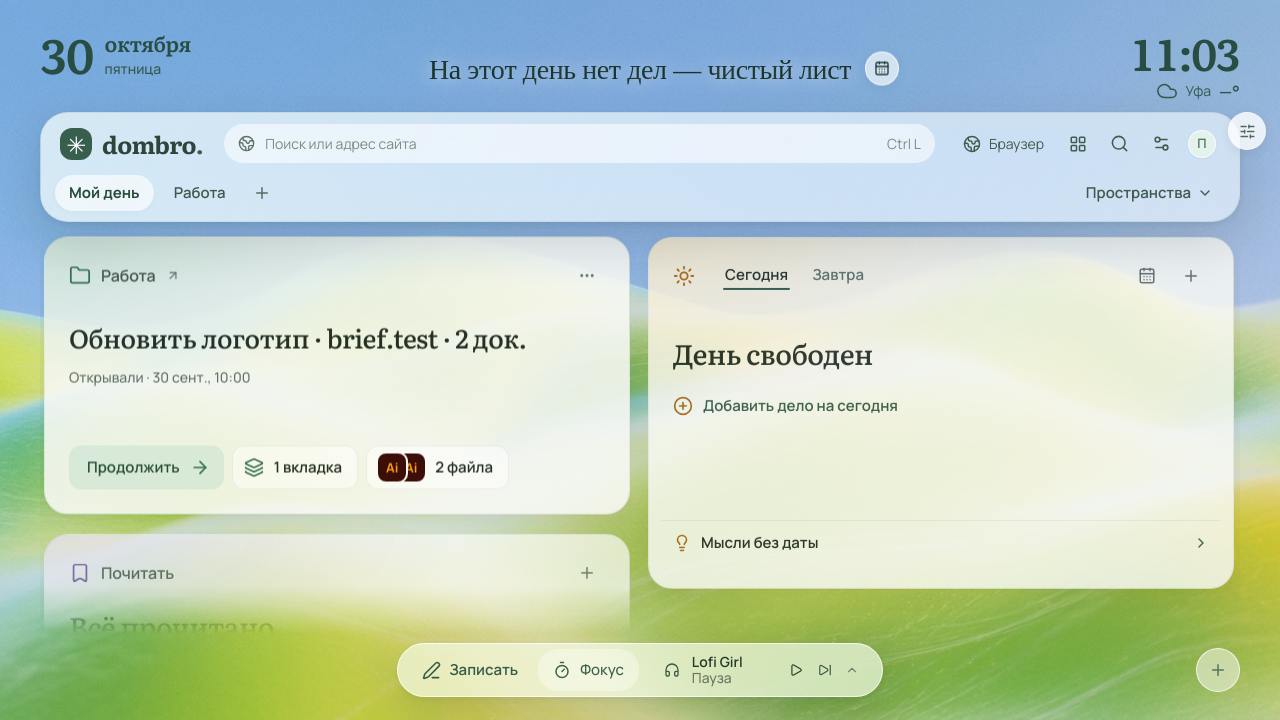
Scenario: карточка продолжения в приложении › одно нажатие открывает только документы дела и его вкладки, сохраняя другие открытые вкладки
The image size is (1280, 720).
Expected: the element with class "resume-card" shows "Обновить логотип", [69,317,527,356]
Click the button "Продолжить": x=146, y=467 [69,445,224,489]
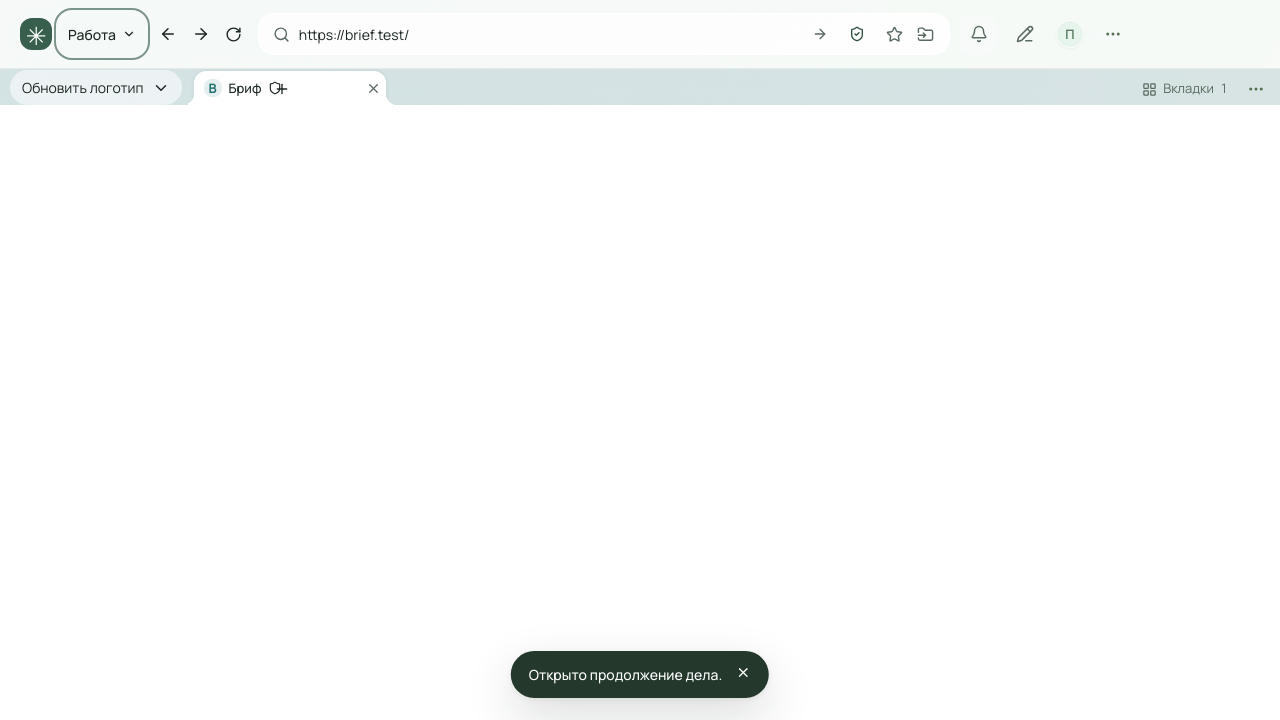
Result: the element with class "workstage-container" shows "Обновить логотип" at [10,70,182,105]
